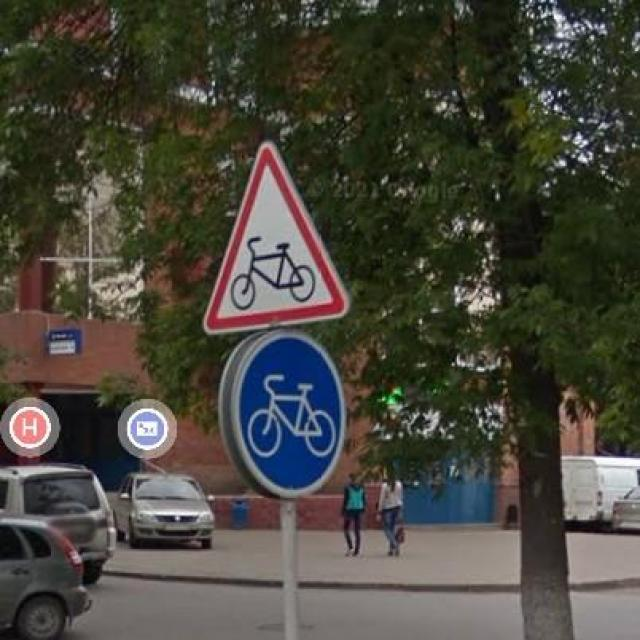traffic_sign: (200, 139, 352, 337), (229, 329, 349, 501)
